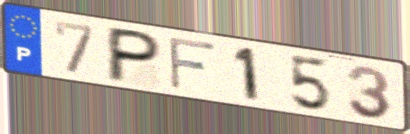1: (231, 45, 262, 104)
3: (343, 64, 394, 121)
5: (288, 52, 334, 113)
7: (52, 19, 96, 77)
F: (166, 34, 219, 92)
P: (104, 24, 165, 85)
